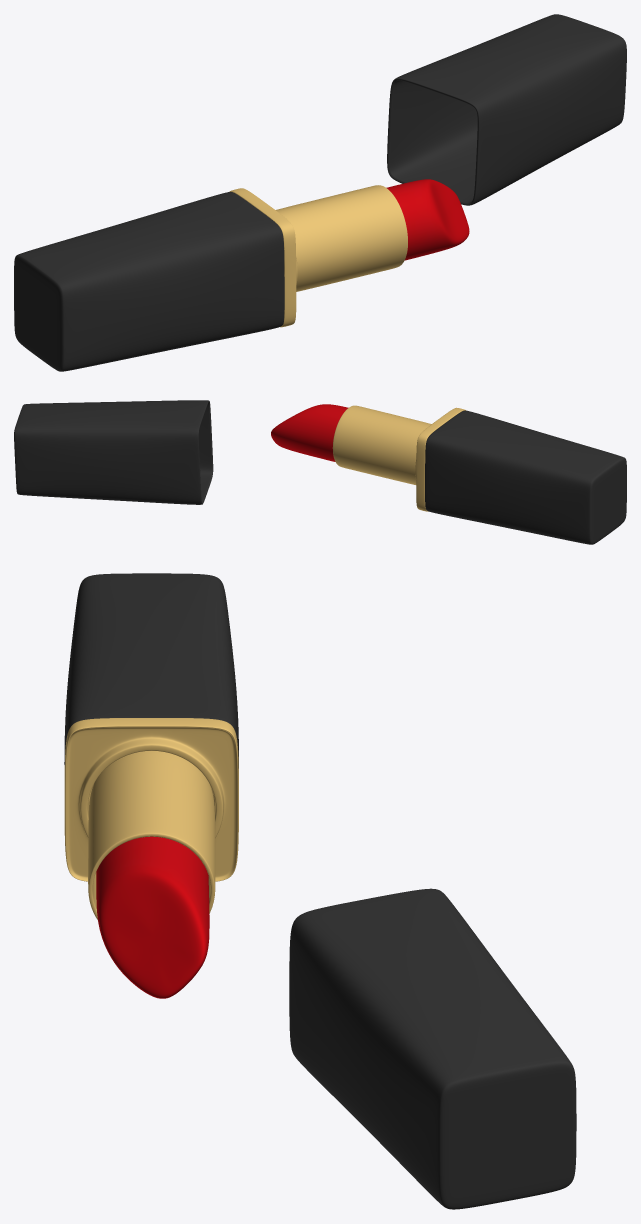
The picture shows the model from 3 angles, top to bottom: view 1: azimuth 30°, elevation 25°; view 2: azimuth 150°, elevation 25°; view 3: azimuth 270°, elevation 25°; orthographic projection. The views are drawn at different scales.
Parts seen in each view (by area): view 1: Base_0, Cap_1, Arm_3, Paint_4, Center_2; view 2: Base_0, Cap_1, Arm_3, Paint_4, Center_2; view 3: Cap_1, Base_0, Paint_4, Center_2, Arm_3.
Part boxes in pixels (x1,y1,x2,y2): Base_0: [14, 192, 284, 371]; Cap_1: [387, 14, 626, 205]; Arm_3: [276, 185, 407, 291]; Paint_4: [386, 179, 469, 260]; Center_2: [229, 188, 297, 327]; Base_0: [425, 410, 626, 544]; Cap_1: [14, 400, 213, 504]; Arm_3: [332, 405, 431, 484]; Paint_4: [271, 404, 348, 461]; Center_2: [415, 407, 465, 511]; Cap_1: [289, 888, 576, 1209]; Base_0: [64, 573, 238, 768]; Paint_4: [96, 836, 209, 998]; Center_2: [64, 718, 238, 881]; Arm_3: [88, 751, 215, 919].
Bounding box in the file's own units: 6.06 × 0.9257 × 2.62.
Materials: 4 (4 with a texture image).
